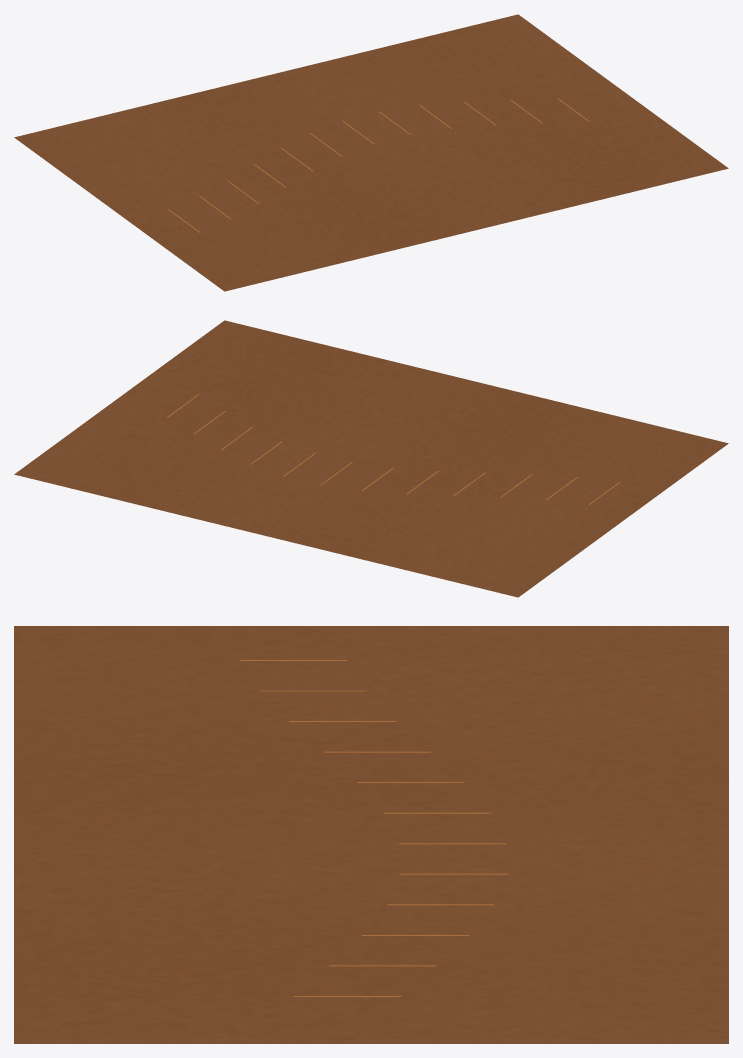
File: 268_L120_L3_LayerReference.obj
The picture shows the model from 3 angles, top to bottom: view 1: azimuth 30°, elevation 25°; view 2: azimuth 150°, elevation 25°; view 3: azimuth 270°, elevation 25°; orthographic projection. The views are drawn at different scales.
Parts seen in each view (by area): view 1: 268_L120_L3_LayerReference; view 2: 268_L120_L3_LayerReference; view 3: 268_L120_L3_LayerReference.
Boxes of the visible parts, x1,y1,x2,y2 form: 268_L120_L3_LayerReference: (14, 14, 728, 291); 268_L120_L3_LayerReference: (14, 320, 728, 597); 268_L120_L3_LayerReference: (14, 626, 728, 1043).
Bounding box in the file's own units: 0.506 × 0.000202 × 0.366.
Materials: 2 (2 with a texture image).
